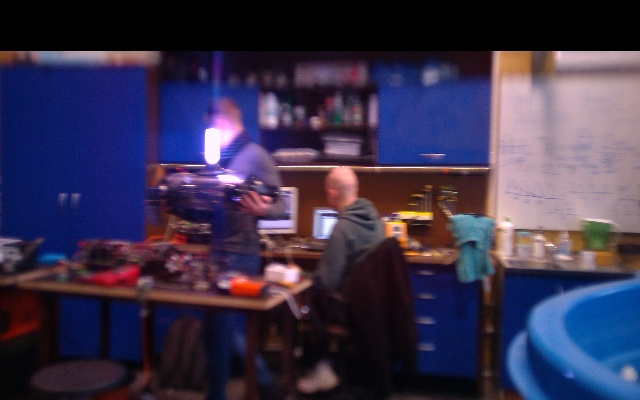white: (204, 127, 221, 166)
